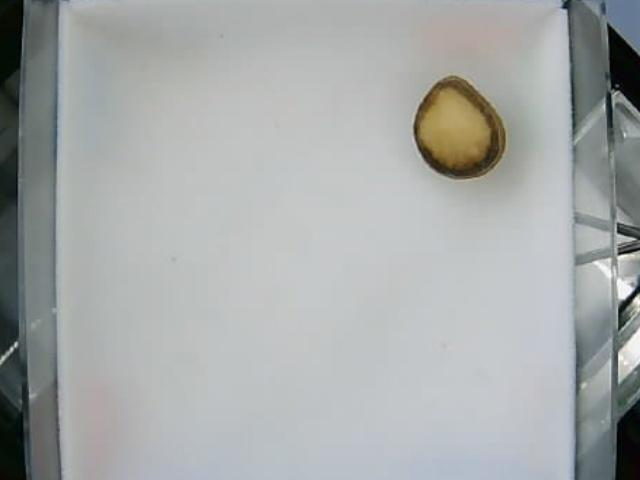Potato: (411, 71, 508, 184)
